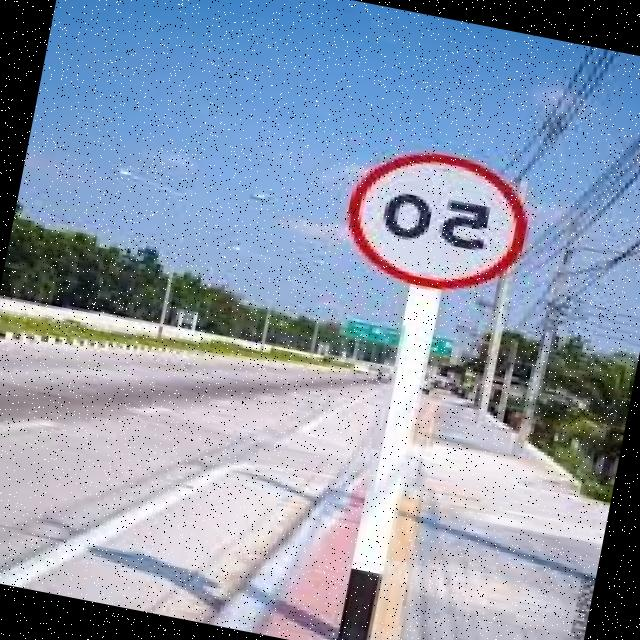speed_limit_50: (320, 135, 549, 310)
